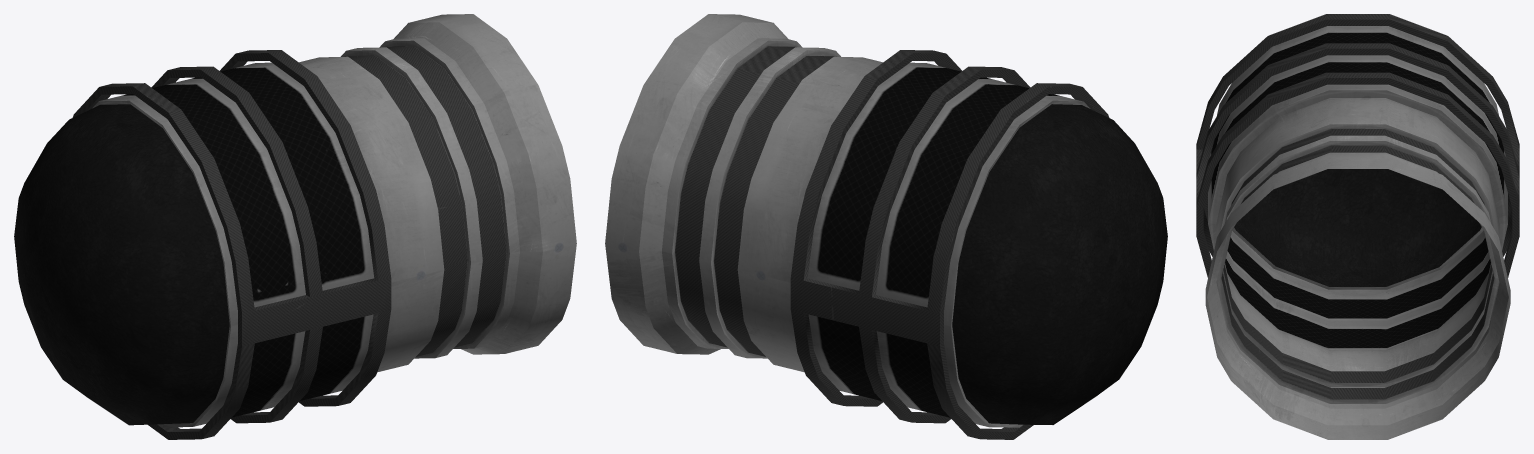
Rendered from pommel_1_c_a.glb.
3 views of the same model, side by side, from view 1: azimuth 30°, elevation 25°; view 2: azimuth 150°, elevation 25°; view 3: azimuth 270°, elevation 25° (orthographic). The views are drawn at different scales.
Parts seen in each view (by area): view 1: pommel_1_c_a_lod0; view 2: pommel_1_c_a_lod0; view 3: pommel_1_c_a_lod0.
Part boxes in pixels (x1=…): pommel_1_c_a_lod0: x1=14, y1=14, x2=576, y2=439; pommel_1_c_a_lod0: x1=605, y1=14, x2=1167, y2=439; pommel_1_c_a_lod0: x1=1196, y1=14, x2=1519, y2=439.
Size of what is drawn, in the model's own units: 0.0457 by 0.0324 by 0.0328.
1 material, 1 textured.
